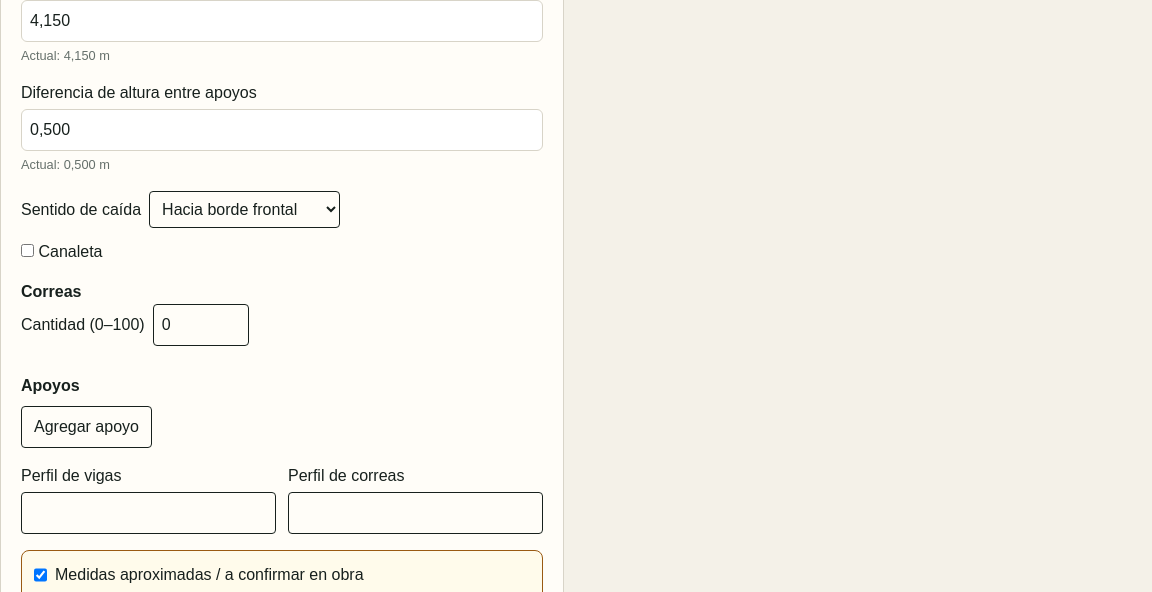
Test case: RoofEditor › redistributes on depth or count and preserves positions on width, height or fall changes
(page scrolled)
Replace the text in the number field labelled "Cantidad (0–100)" with "2" at x=201, y=325, box top-left (153, 304), bottom-right (249, 346)
(page scrolled)
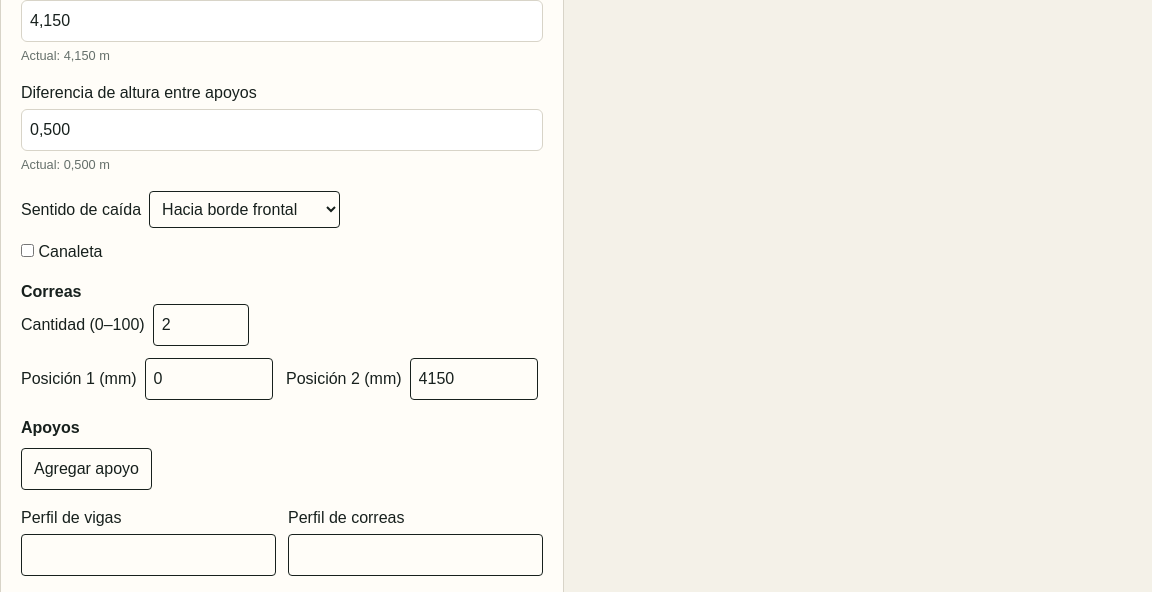
Expected: the number field labelled "Posición 1 (mm)" holds "0"
Expected: the number field labelled "Posición 2 (mm)" holds "4150", top-left (410, 358), bottom-right (538, 400)
Replace the text in the number field labelled "Posición 1 (mm)" with "100" at x=209, y=379, box top-left (145, 358), bottom-right (273, 400)
(page scrolled)
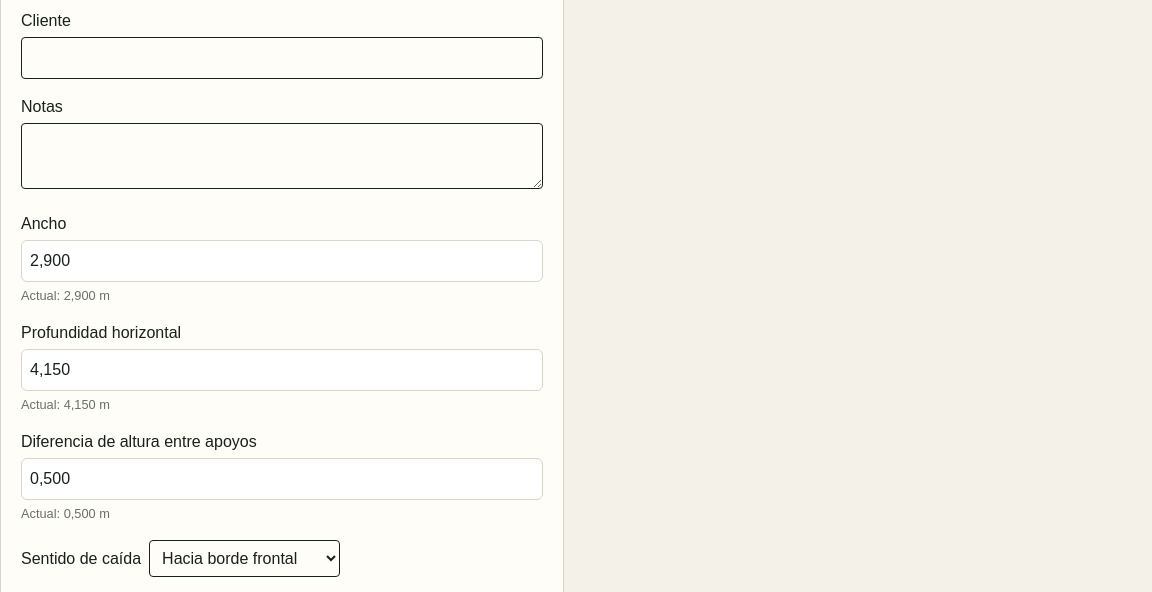
Replace the text in the field labelled "Ancho Actual: 2,900 m" with "3,000" at x=282, y=261, box top-left (21, 240), bottom-right (543, 282)
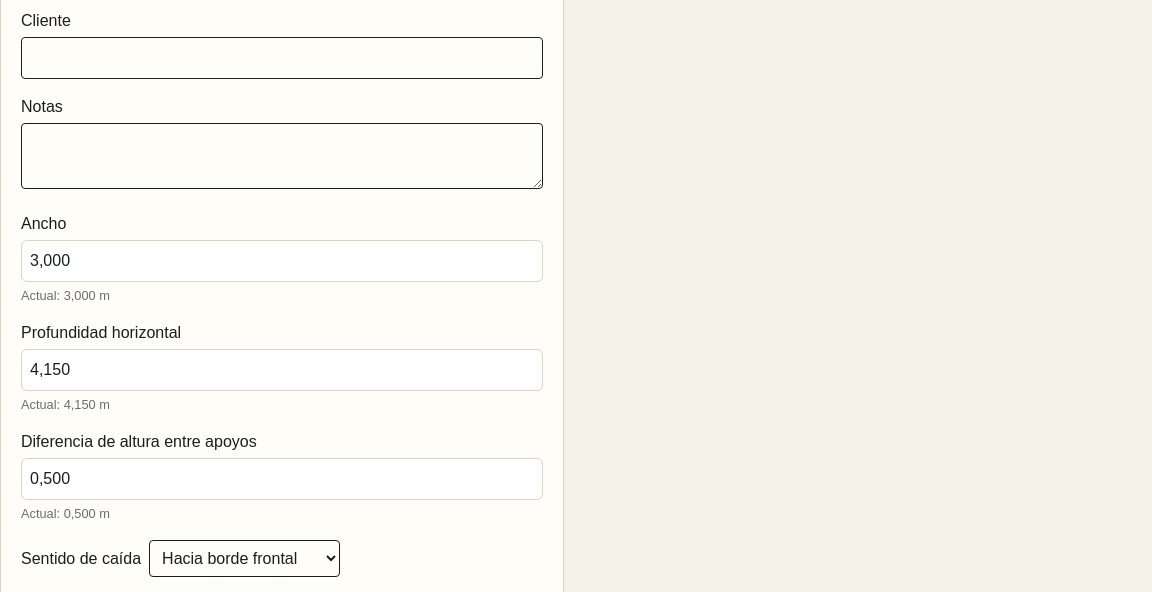
Replace the text in the field labelled "Diferencia de altura entre apoyos Actual: 0,500 m" with "0,450" at x=282, y=479, box top-left (21, 458), bottom-right (543, 500)
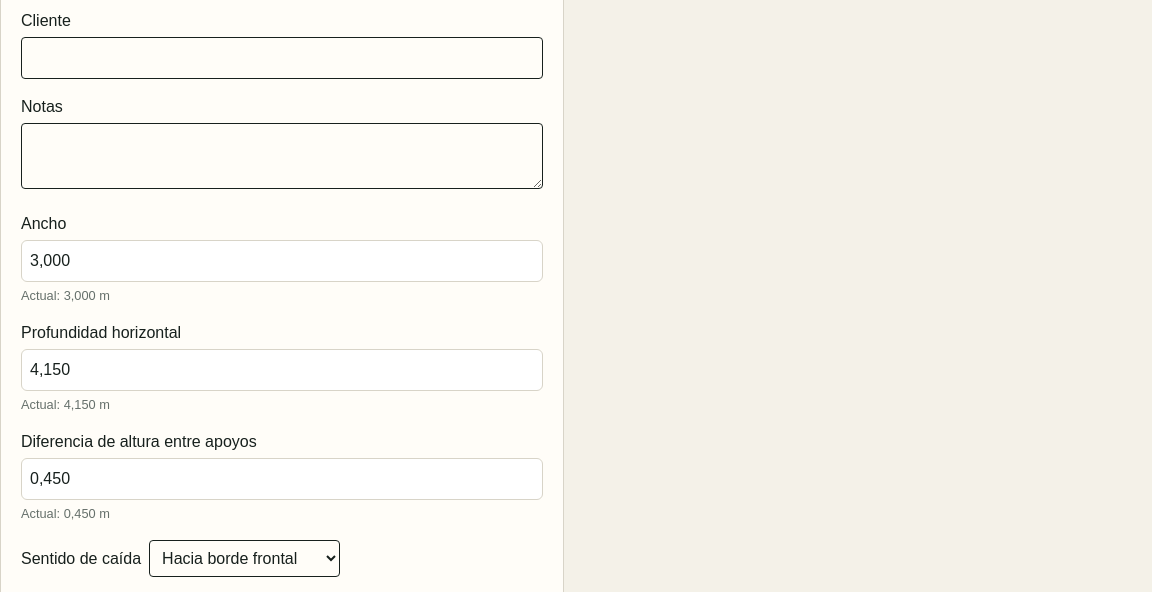
Select "Hacia borde posterior" in the dropdown labelled "Sentido de caída" at x=245, y=558, box top-left (149, 540), bottom-right (340, 577)
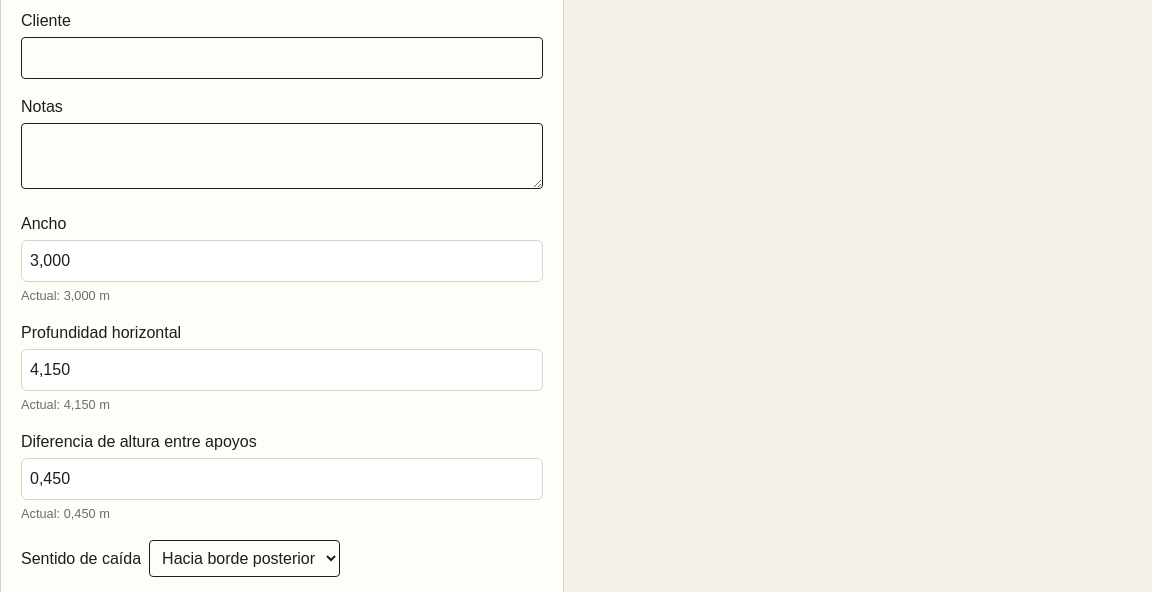
Replace the text in the field labelled "Profundidad horizontal Actual: 4,150 m" with "4,000" at x=282, y=370, box top-left (21, 349), bottom-right (543, 391)
(page scrolled)
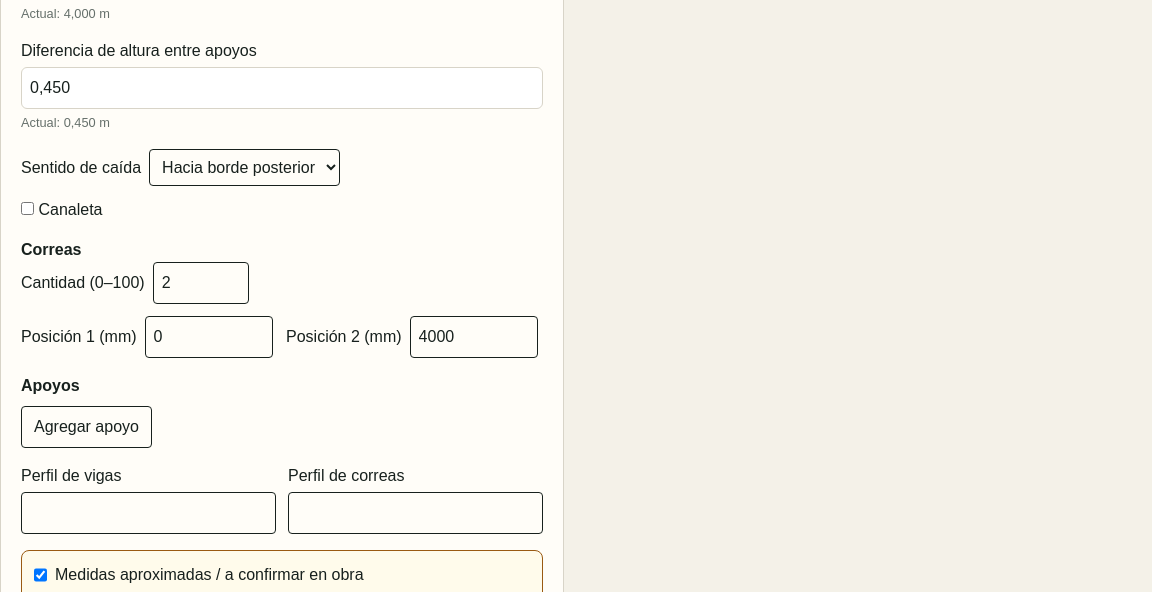
Expected: the number field labelled "Posición 1 (mm)" holds "0", top-left (145, 316), bottom-right (273, 358)
Expected: the number field labelled "Posición 2 (mm)" holds "4000", top-left (410, 316), bottom-right (538, 358)
